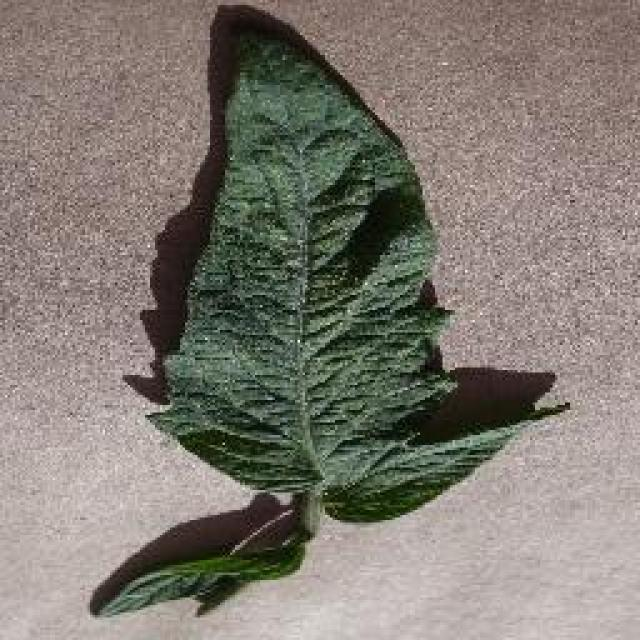Tomato mosaic virus leaf: (156, 36, 554, 524), (92, 546, 308, 614)
